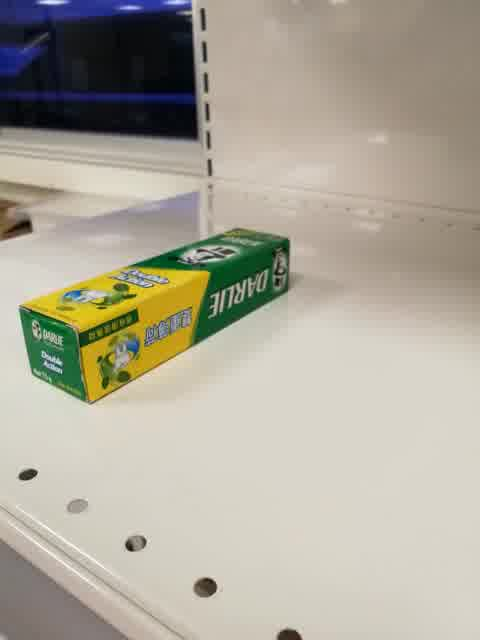toothpaste: (18, 226, 292, 405)
